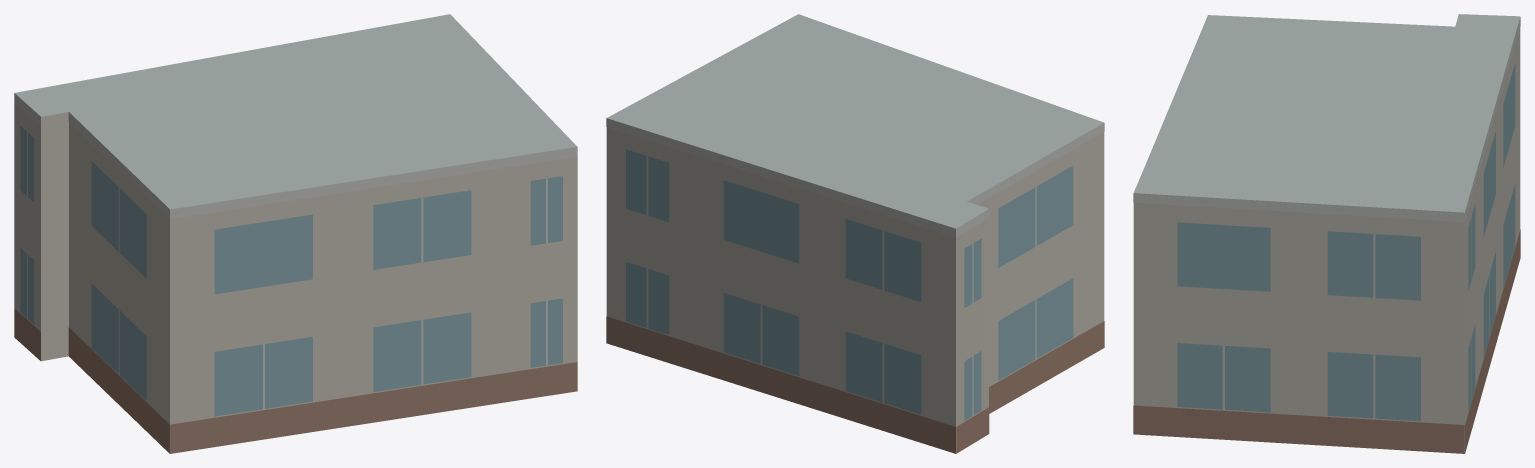
Rendered from survey-upis-32621516.glb.
3 views of the same model, side by side, from view 1: azimuth 30°, elevation 25°; view 2: azimuth 150°, elevation 25°; view 3: azimuth 270°, elevation 25° (orthographic). The views are drawn at different scales.
Parts seen in each view (by area): view 1: survey-upis-32621516.tmp; view 2: survey-upis-32621516.tmp; view 3: survey-upis-32621516.tmp.
Boxes of the visible parts, x1,y1,x2,y2 form: survey-upis-32621516.tmp: (14,14,577,453); survey-upis-32621516.tmp: (606,14,1104,453); survey-upis-32621516.tmp: (1133,14,1520,453).
Size of the model in its own units: 10.78 by 6.1 by 8.88.
